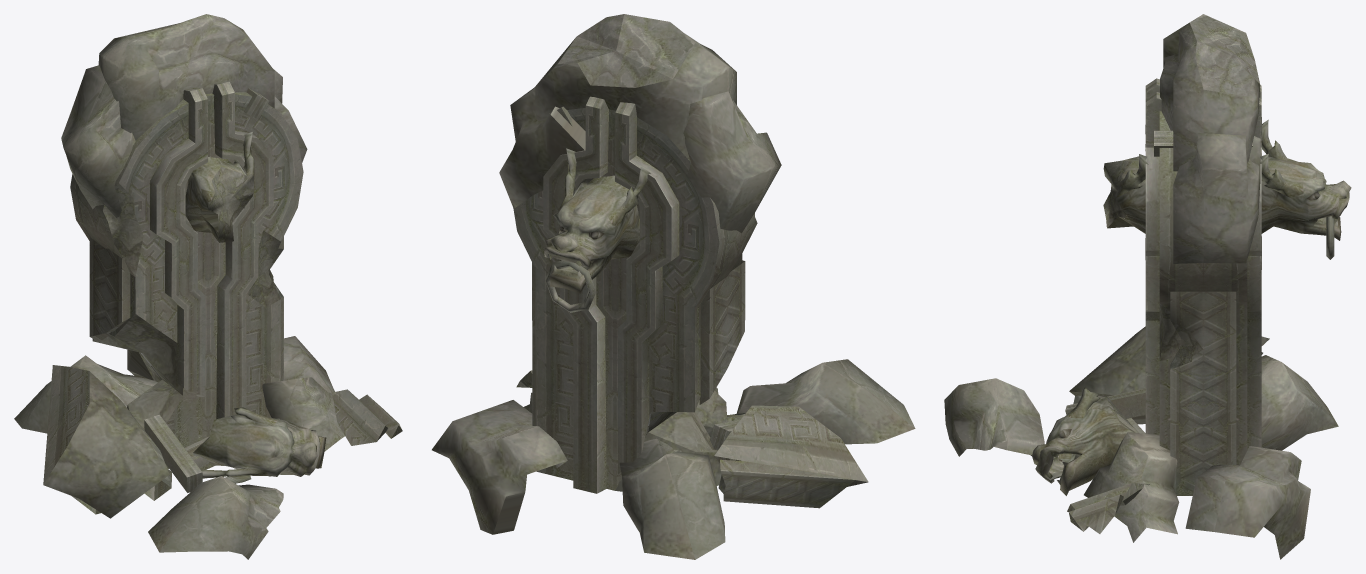
File: wlf_wujian16_jgc.FBX
3 renders of one model, left to right at view 1: azimuth 30°, elevation 25°; view 2: azimuth 150°, elevation 25°; view 3: azimuth 270°, elevation 25°, orthographic. The views are drawn at different scales.
Parts seen in each view (by area): view 1: wlf_wujian16_jgc; view 2: wlf_wujian16_jgc; view 3: wlf_wujian16_jgc.
Part boxes in pixels (left/top/right/bottom): wlf_wujian16_jgc: left=14, top=14, right=402, bottom=559; wlf_wujian16_jgc: left=432, top=14, right=915, bottom=559; wlf_wujian16_jgc: left=944, top=14, right=1351, bottom=559.
Size of the model in its own units: 32.32 by 41.95 by 32.7.
